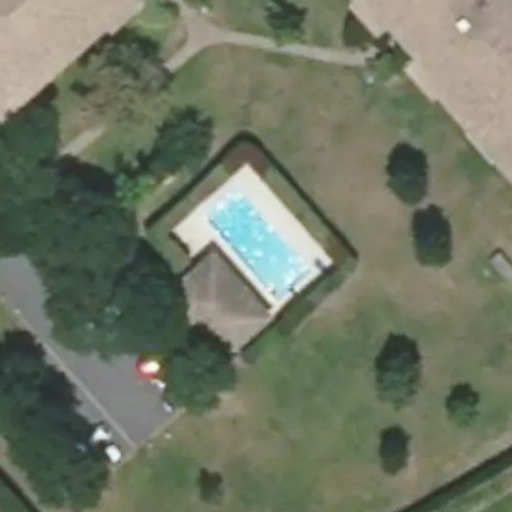pool: (197, 214, 314, 269)
